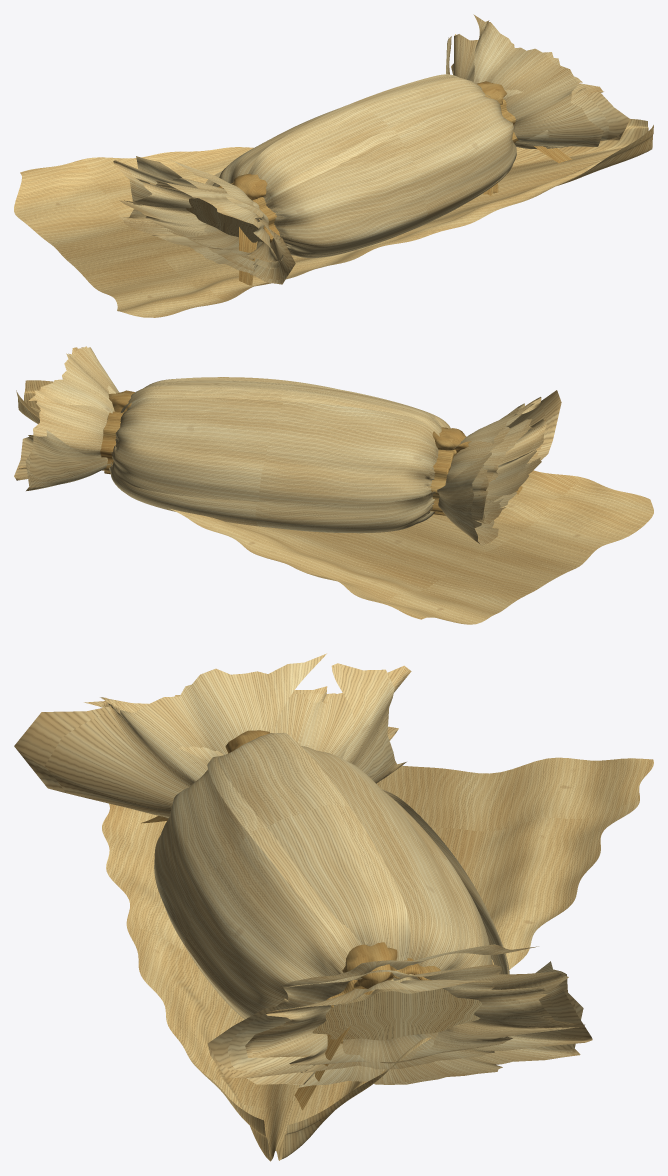
The model's file is tamal_a.glb.
3 renders of one model, top to bottom at view 1: azimuth 30°, elevation 25°; view 2: azimuth 150°, elevation 25°; view 3: azimuth 270°, elevation 25°, orthographic. The views are drawn at different scales.
Parts seen in each view (by area): view 1: tamal_a; view 2: tamal_a; view 3: tamal_a.
Part boxes in pixels (bbox=[...]): tamal_a: bbox=[14, 14, 653, 317]; tamal_a: bbox=[14, 346, 653, 624]; tamal_a: bbox=[14, 653, 653, 1161].
Bounding box in the file's own units: 0.175 × 0.0327 × 0.1095.
Materials: 1 (1 with a texture image).
